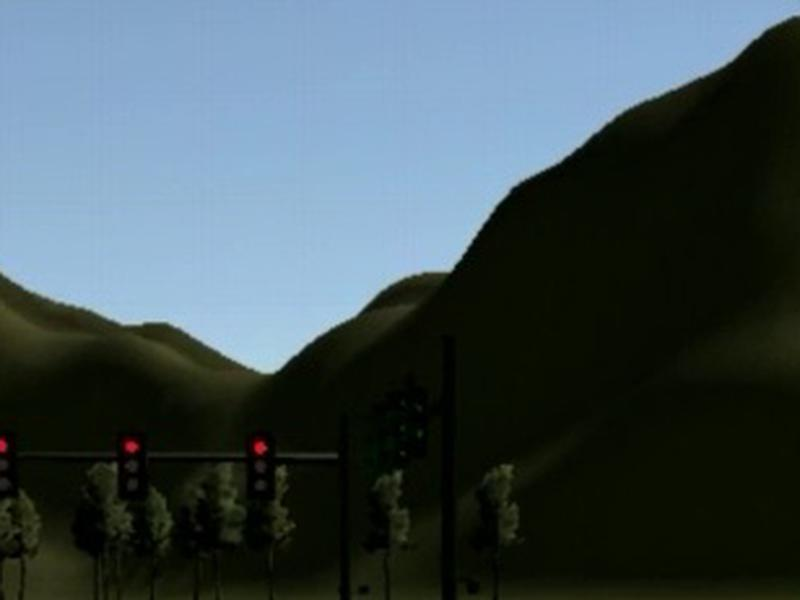Red: (245, 430, 275, 502), (118, 434, 149, 500), (1, 432, 14, 497)
